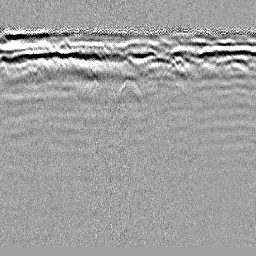cavity: (114, 76, 144, 103)
